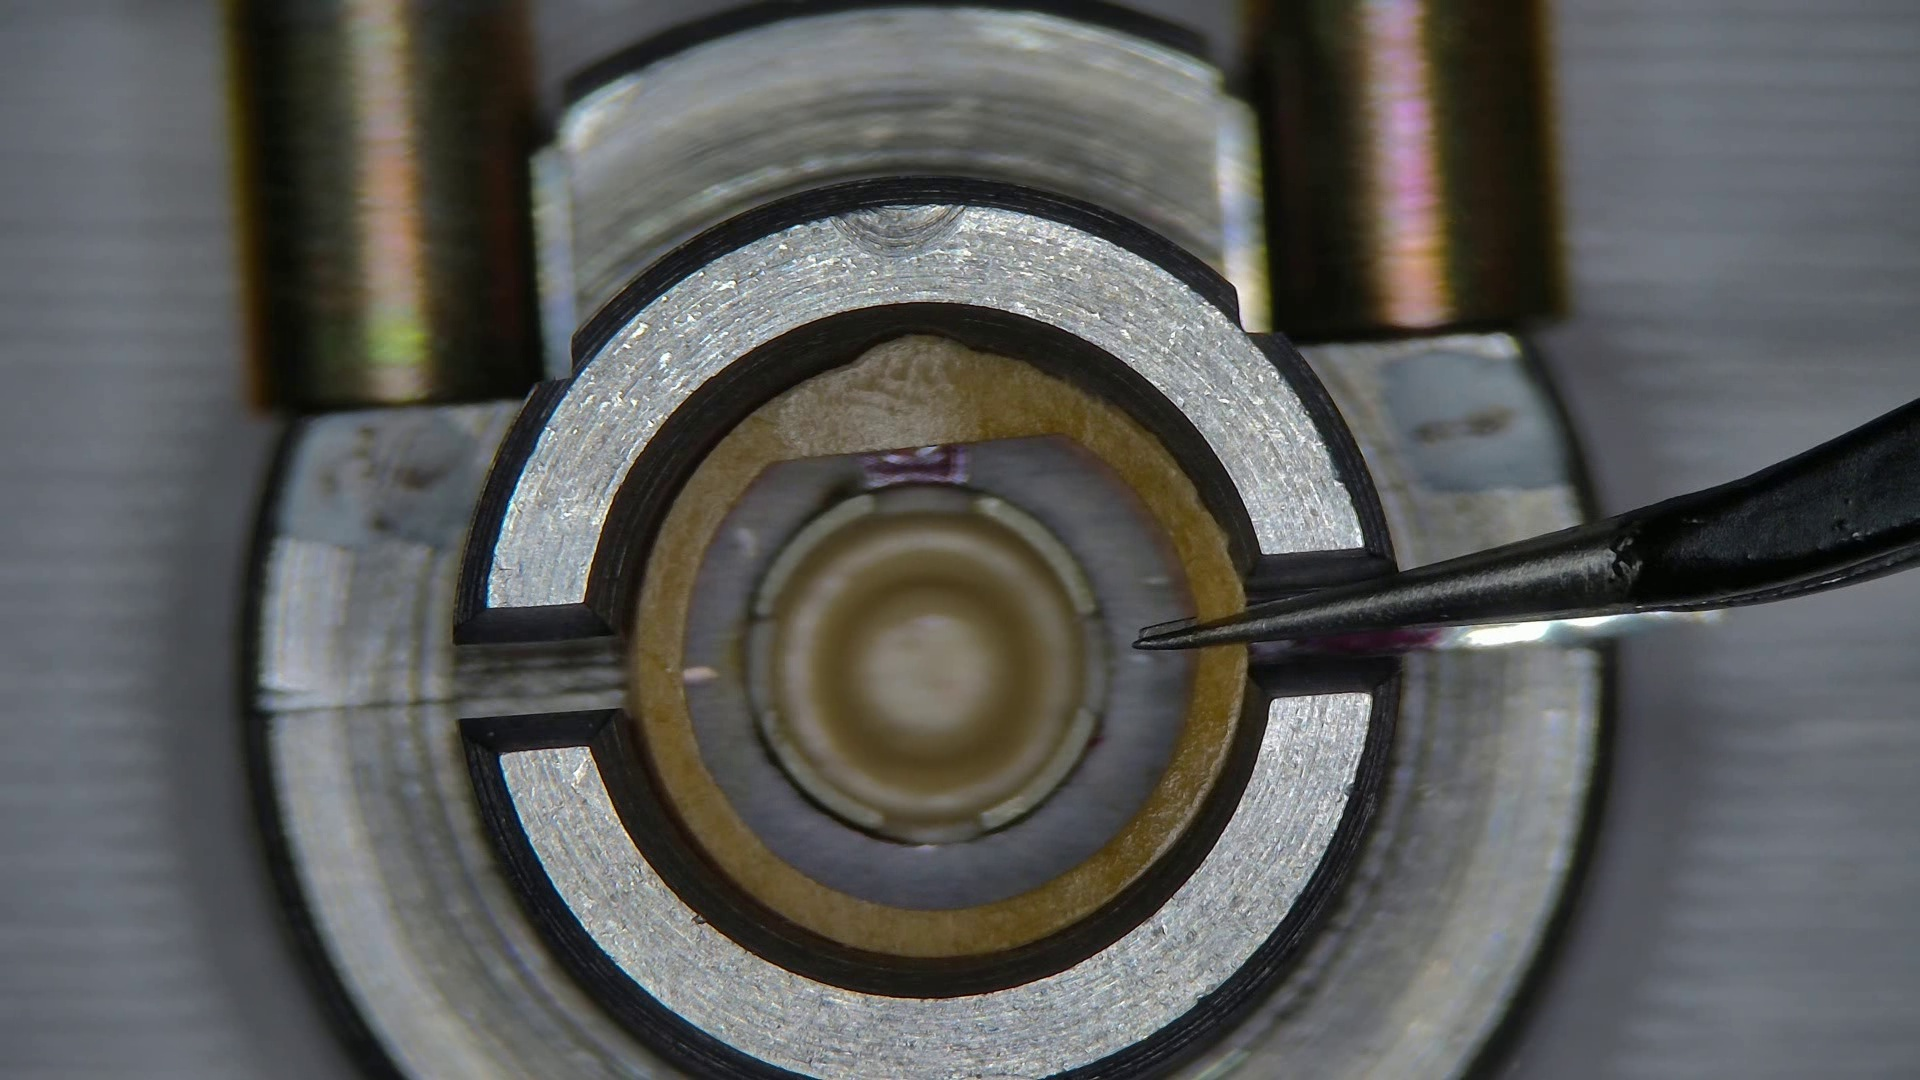YellowOring: (686, 440, 1189, 909)
redOring: (633, 334, 1246, 956)
